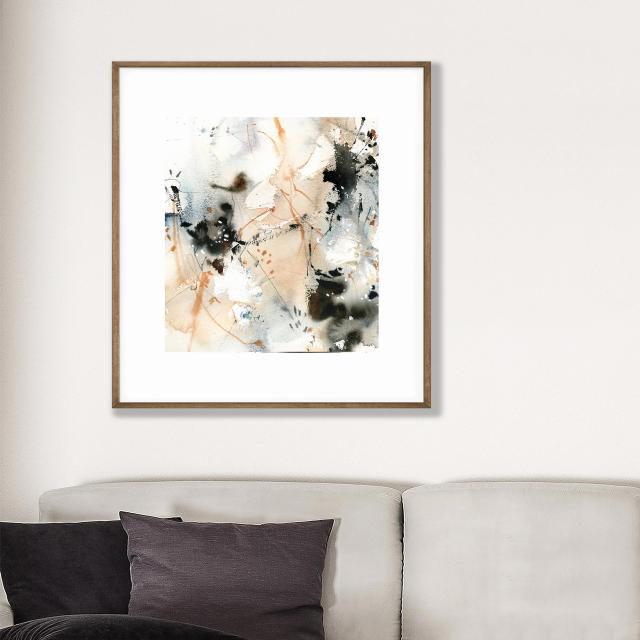painting: (111, 61, 431, 407)
